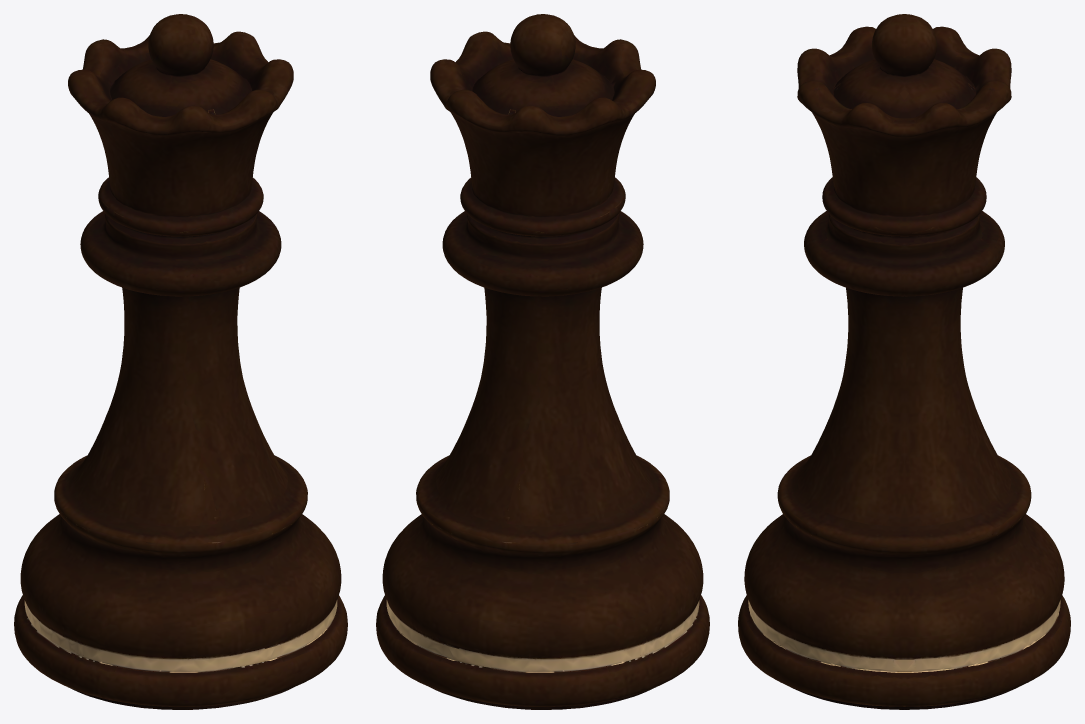
The model's file is 04_queen_dark.glb.
3 views of the same model, side by side, from view 1: azimuth 30°, elevation 25°; view 2: azimuth 150°, elevation 25°; view 3: azimuth 270°, elevation 25° (orthographic).
Visible parts, largest first — view 1: world; view 2: world; view 3: world.
Boxes of the visible parts, x1,y1,x2,y2 form: world: (14,14,347,709); world: (376,14,709,709); world: (738,14,1070,709).
Size of the model in its own units: 0.4807 by 1 by 0.4807.
1 material, 1 textured.
